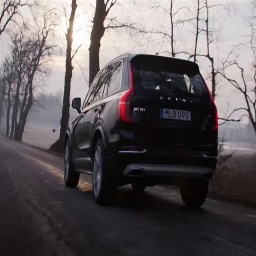sv_licence_plate: (159, 107, 193, 121)
